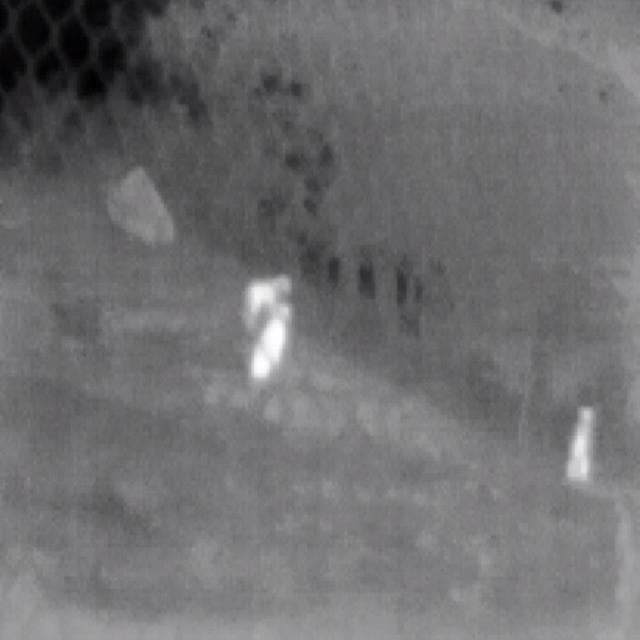cheetah: (246, 277, 291, 379), (567, 405, 594, 480)
